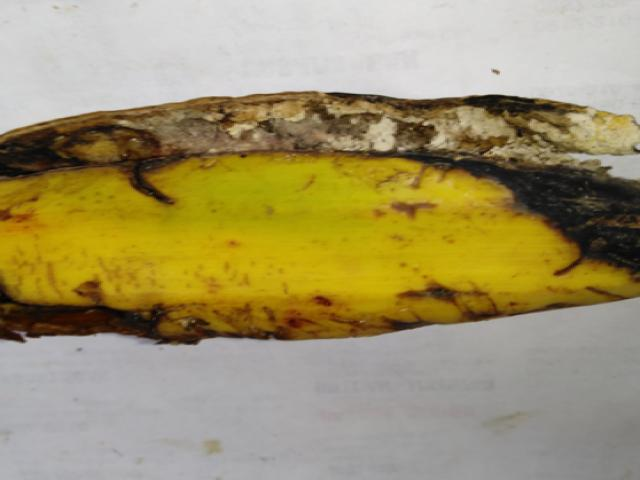rotten: (0, 56, 459, 182), (413, 70, 639, 314), (0, 262, 260, 378)
